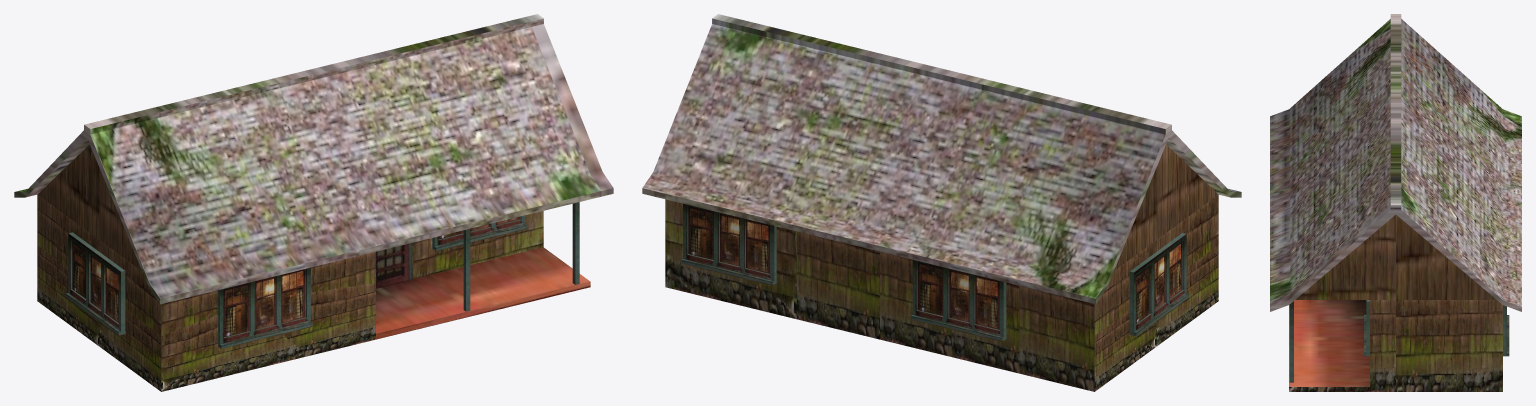
Rendered from house.fbx.
The picture shows the model from 3 angles, left to right: view 1: azimuth 30°, elevation 25°; view 2: azimuth 150°, elevation 25°; view 3: azimuth 270°, elevation 25°; orthographic projection. The views are drawn at different scales.
Visible parts, largest first — view 1: house, door; view 2: house; view 3: house.
Part boxes in pixels (box(x1,y1,x2,y2)): house: box(14, 14, 613, 391); door: box(376, 242, 413, 288); house: box(642, 14, 1241, 391); house: box(1270, 14, 1521, 391).
Bounding box in the file's own units: 1057 × 496 × 589.
2 materials, 2 textured.
